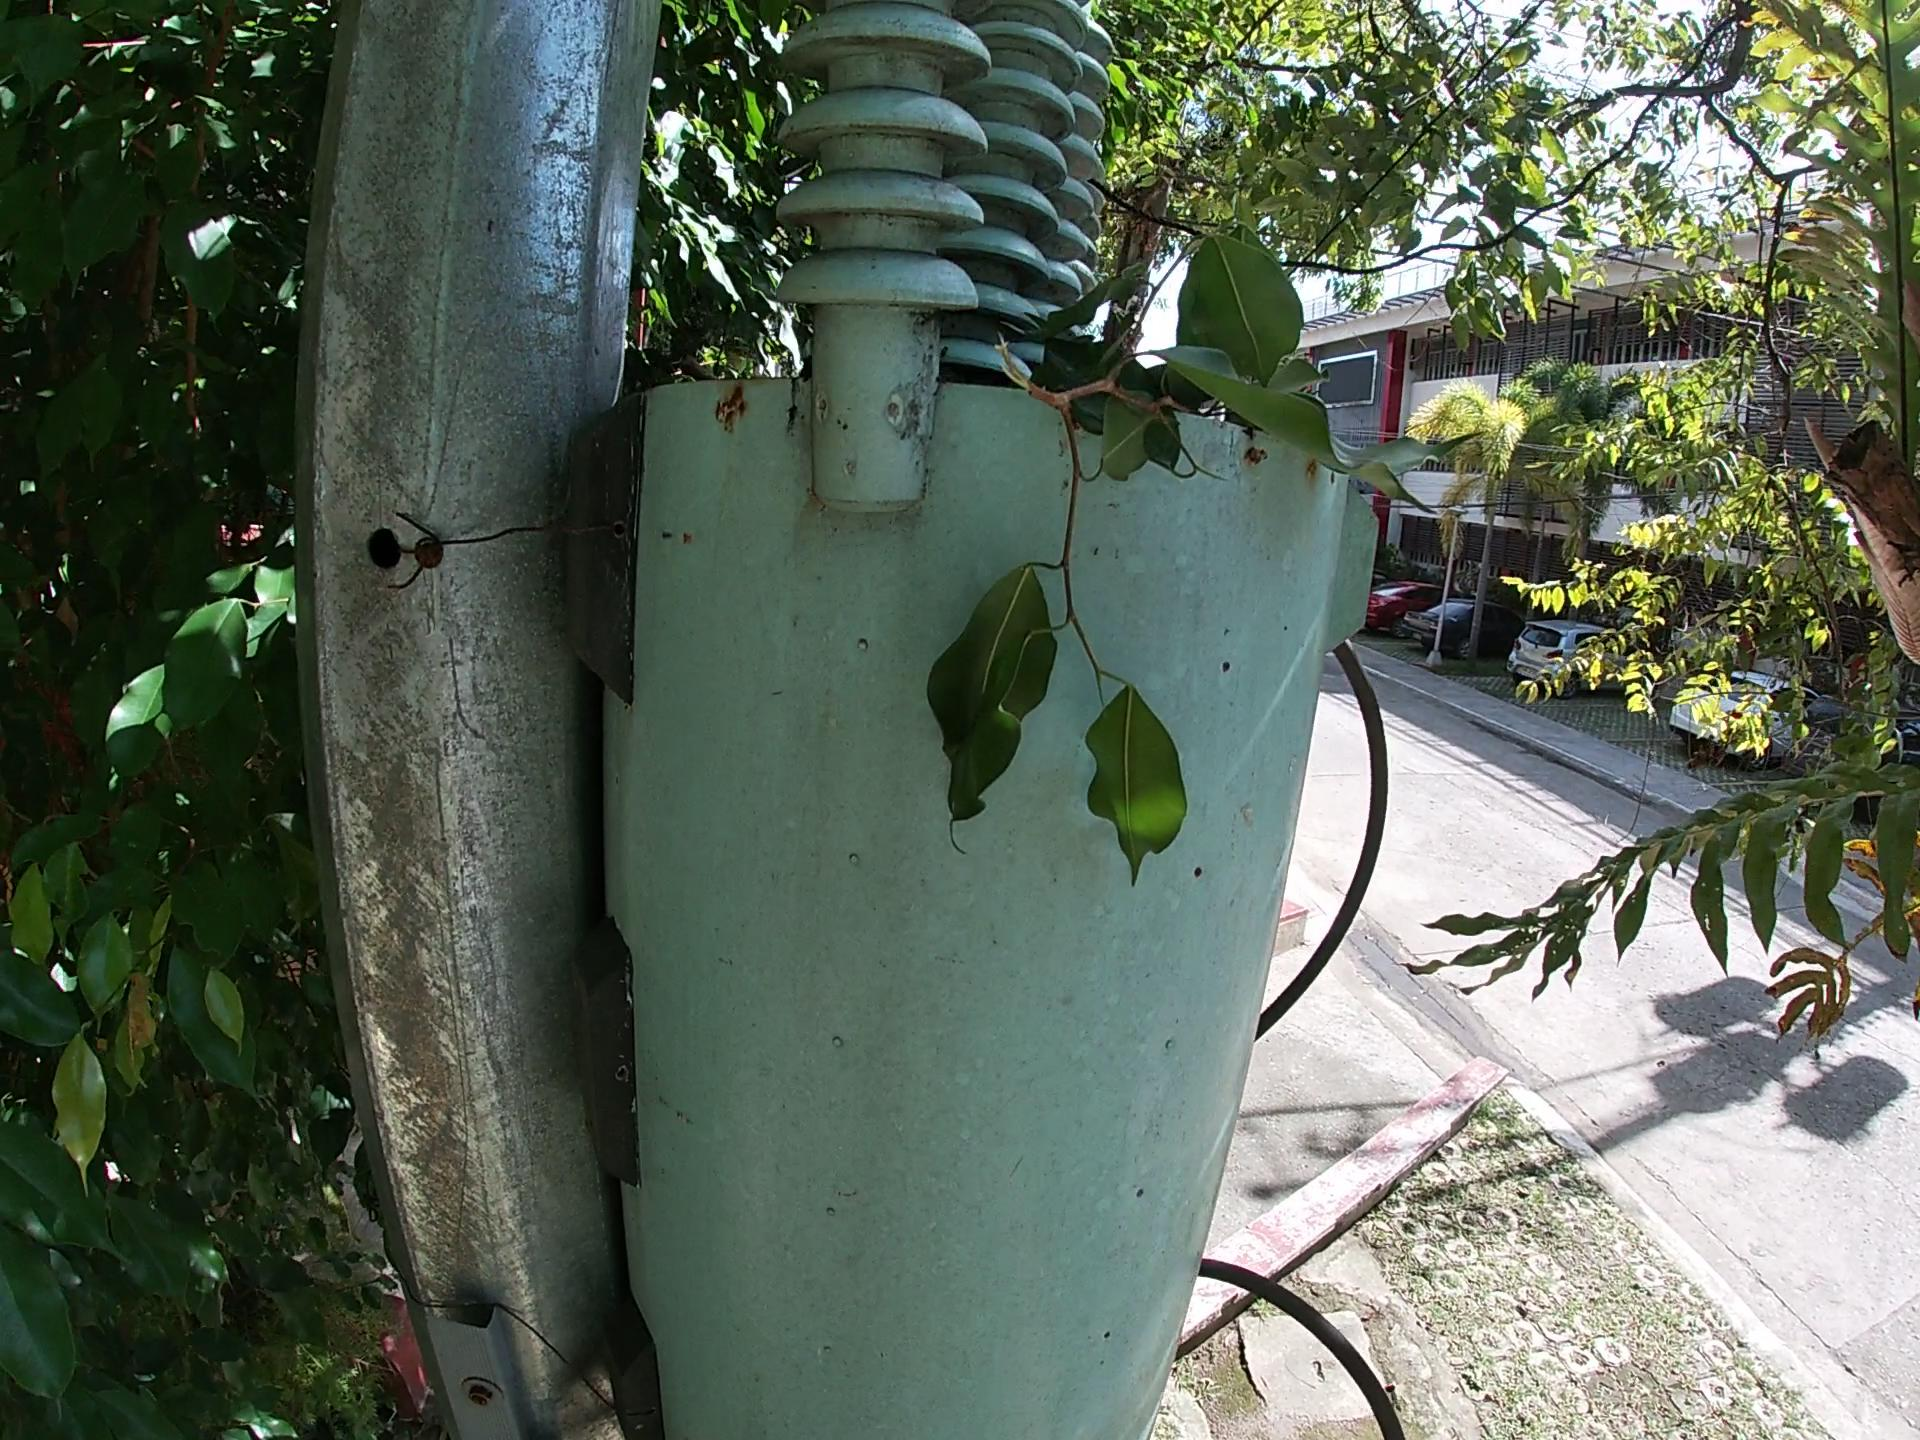branch with leaves: (890, 225, 1386, 888)
